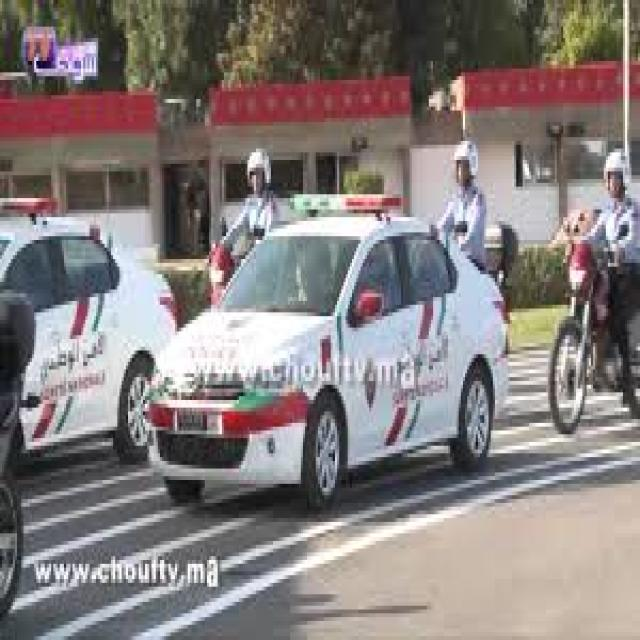police: (183, 189, 507, 510), (2, 190, 174, 470)
